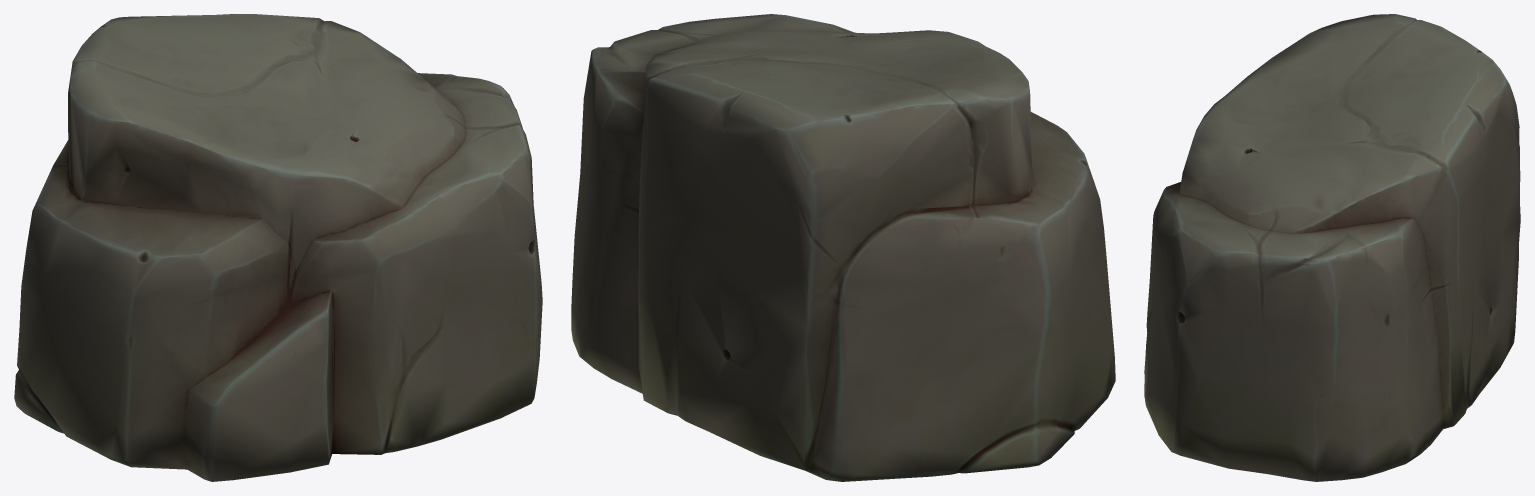
The model's file is ROK0110025.fbx.
3 renders of one model, left to right at view 1: azimuth 30°, elevation 25°; view 2: azimuth 150°, elevation 25°; view 3: azimuth 270°, elevation 25°, orthographic. The views are drawn at different scales.
Parts seen in each view (by area): view 1: smROK0110025; view 2: smROK0110025; view 3: smROK0110025.
Part boxes in pixels (x1=…): smROK0110025: x1=14, y1=14, x2=542, y2=481; smROK0110025: x1=571, y1=14, x2=1115, y2=481; smROK0110025: x1=1144, y1=14, x2=1520, y2=481.
Size of the model in its own units: 280 by 189 by 220.
Materials: 1 (1 with a texture image).
